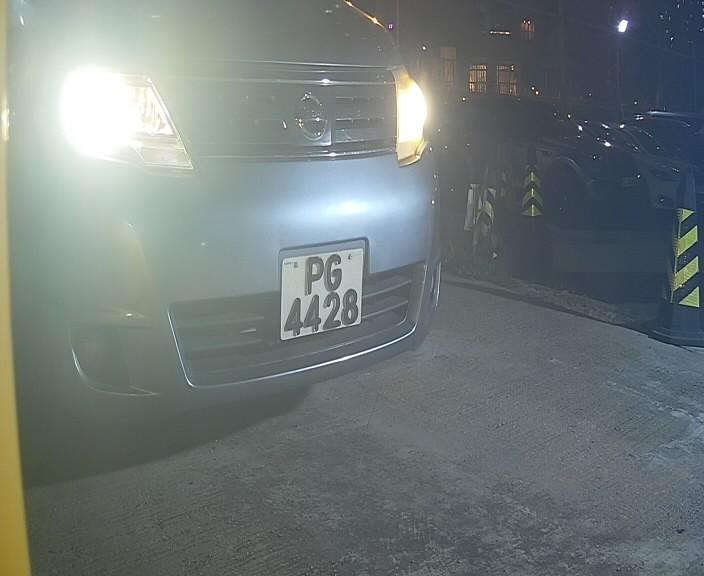License Plate: (271, 227, 371, 355)
